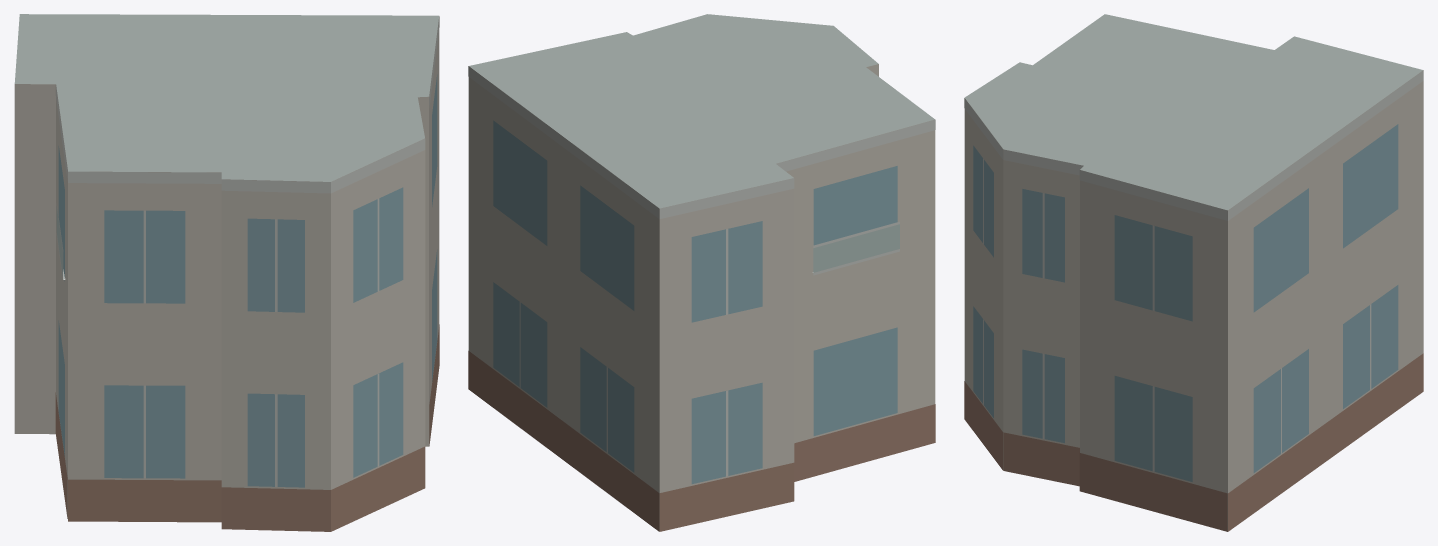
Rendered from survey-upis-32493884.glb.
The picture shows the model from 3 angles, left to right: view 1: azimuth 30°, elevation 25°; view 2: azimuth 150°, elevation 25°; view 3: azimuth 270°, elevation 25°; orthographic projection. The views are drawn at different scales.
Parts seen in each view (by area): view 1: survey-upis-32493884.tmp; view 2: survey-upis-32493884.tmp; view 3: survey-upis-32493884.tmp.
Boxes of the visible parts, left/top/right/bottom form: survey-upis-32493884.tmp: left=14, top=14, right=439, bottom=531; survey-upis-32493884.tmp: left=468, top=14, right=935, bottom=531; survey-upis-32493884.tmp: left=964, top=14, right=1423, bottom=531.
Size of the model in its own units: 9.71 by 7.4 by 9.59.
